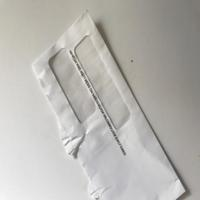paper: (30, 5, 187, 200)
